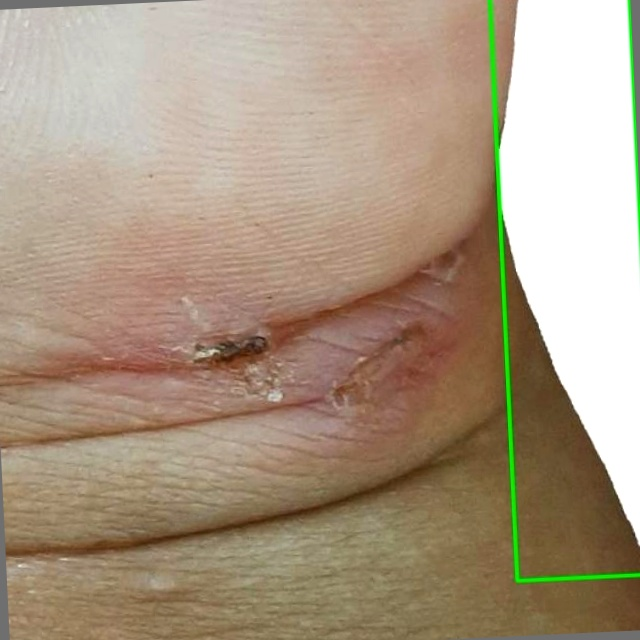Scabies: (489, 0, 639, 580)
